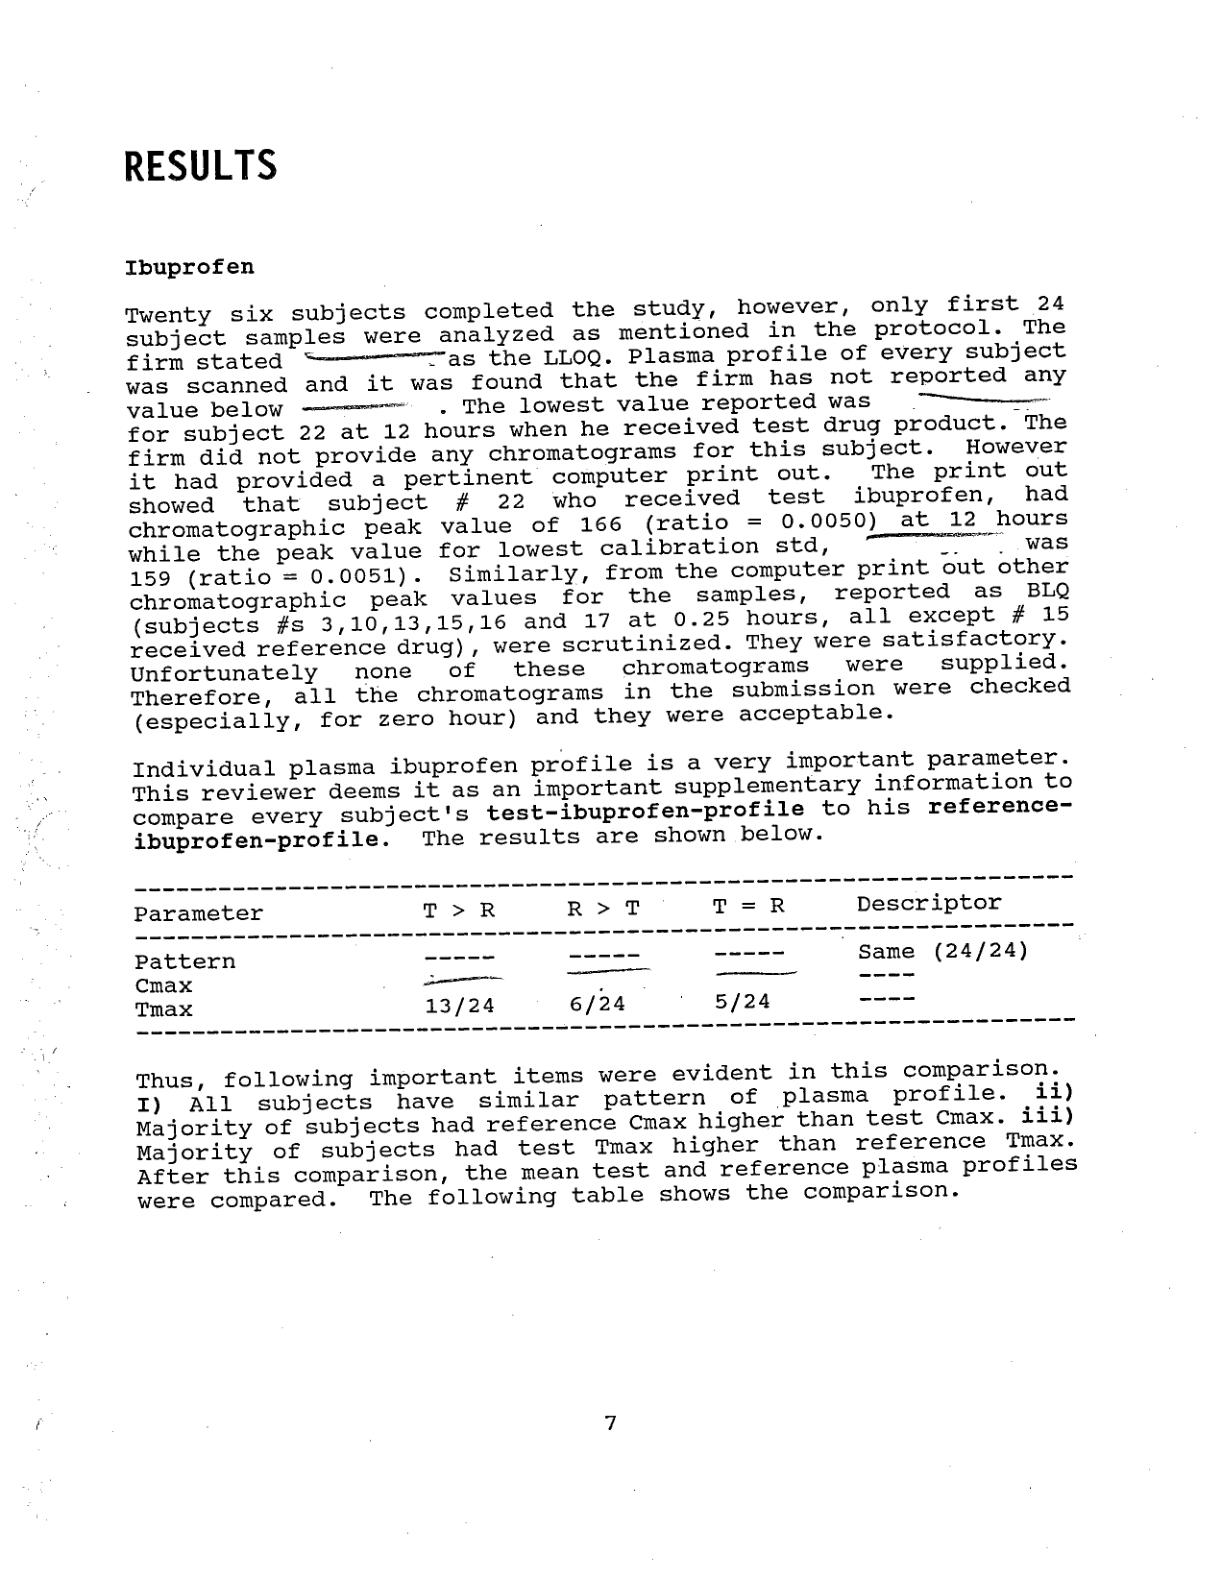partial_lined: (133, 873, 1078, 1036)
